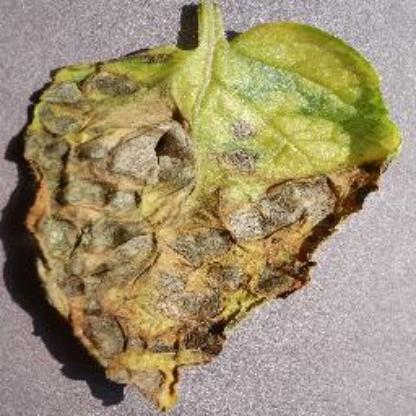Early-Blight: (18, 4, 404, 410)
